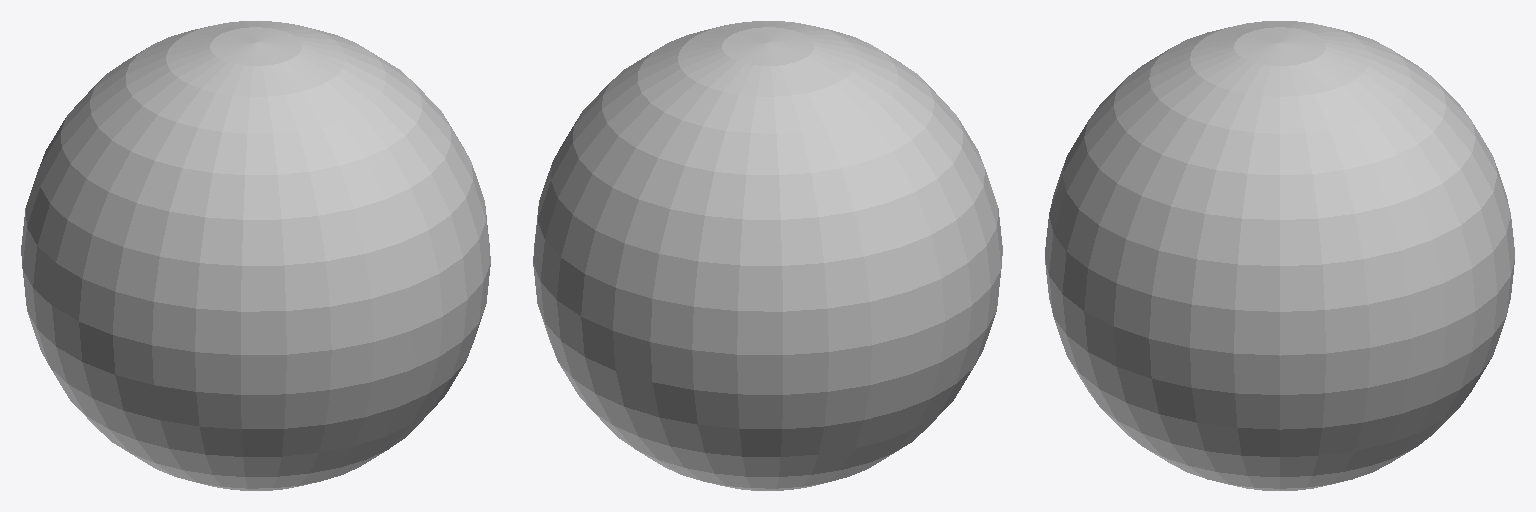
File: Pelo Azul.obj
3 renders of one model, left to right at view 1: azimuth 30°, elevation 25°; view 2: azimuth 150°, elevation 25°; view 3: azimuth 270°, elevation 25°, orthographic.
Visible parts, largest first — view 1: Esfera; view 2: Esfera; view 3: Esfera.
Part boxes in pixels (bbox=[...]): Esfera: bbox=[21, 21, 490, 490]; Esfera: bbox=[533, 21, 1002, 490]; Esfera: bbox=[1045, 21, 1514, 490].
Bounding box in the file's own units: 4.01 × 4.01 × 4.01.